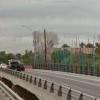Bridge: (4, 67, 68, 99)
